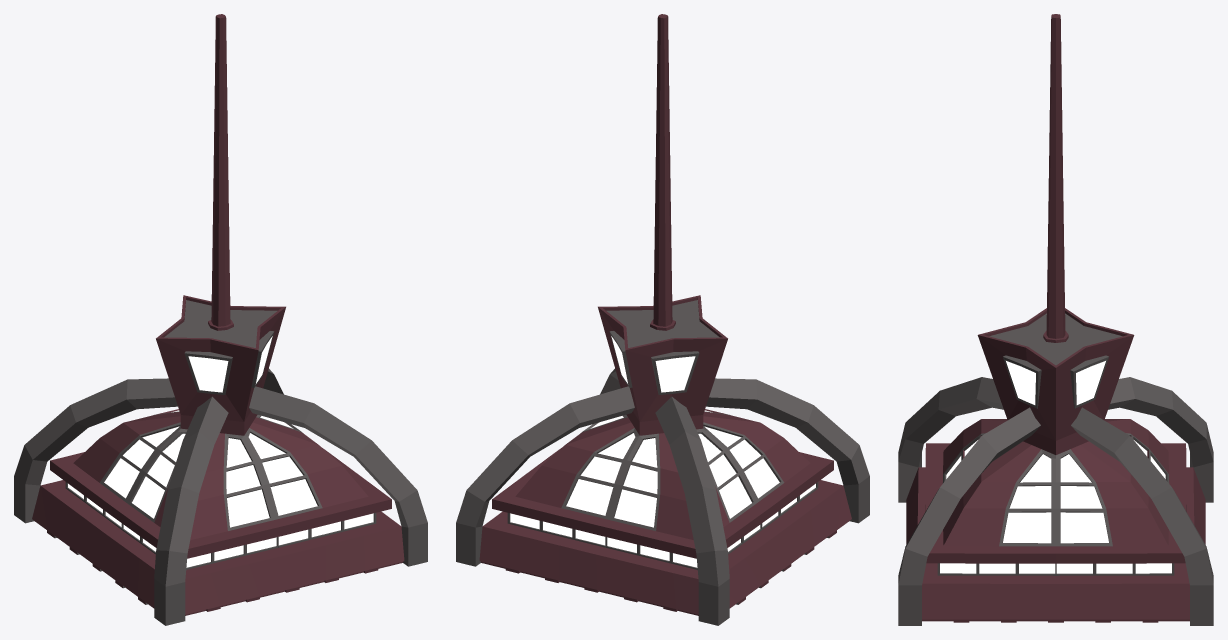
The model's file is buildings-skyscraper-part-top.glb.
The picture shows the model from 3 angles, left to right: view 1: azimuth 30°, elevation 25°; view 2: azimuth 150°, elevation 25°; view 3: azimuth 270°, elevation 25°; orthographic projection. The views are drawn at different scales.
Visible parts, largest first — view 1: skyscraper-part-top; view 2: skyscraper-part-top; view 3: skyscraper-part-top.
Boxes of the visible parts, left/top/right/bottom form: skyscraper-part-top: left=14, top=14, right=427, bottom=625; skyscraper-part-top: left=456, top=14, right=869, bottom=625; skyscraper-part-top: left=898, top=14, right=1213, bottom=625.
Size of the model in its own units: 20 by 38.04 by 20.
